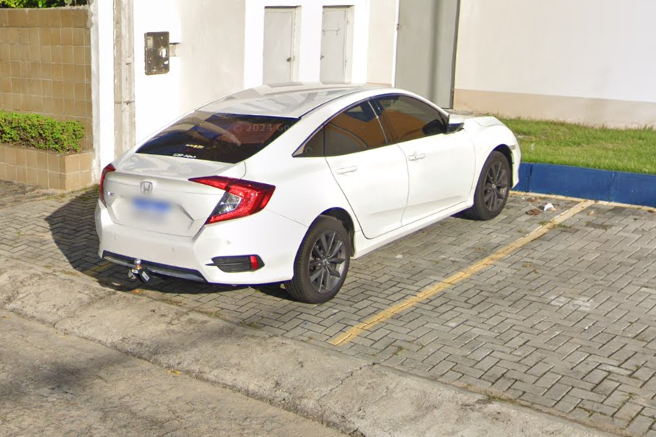car: (89, 75, 524, 304)
